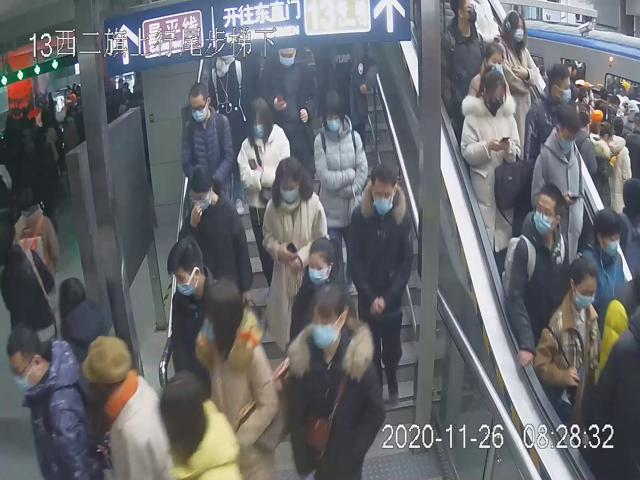person: (190, 273, 285, 480), (289, 281, 387, 480), (341, 153, 416, 410), (258, 154, 330, 360), (460, 64, 527, 276), (499, 178, 570, 373), (309, 87, 369, 282), (233, 95, 293, 287), (178, 159, 256, 303), (166, 233, 232, 393), (287, 236, 359, 371), (177, 80, 237, 226)
